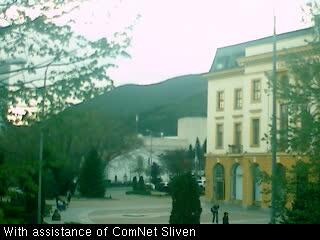person: (210, 202, 220, 224), (66, 190, 73, 204), (222, 211, 229, 224)
